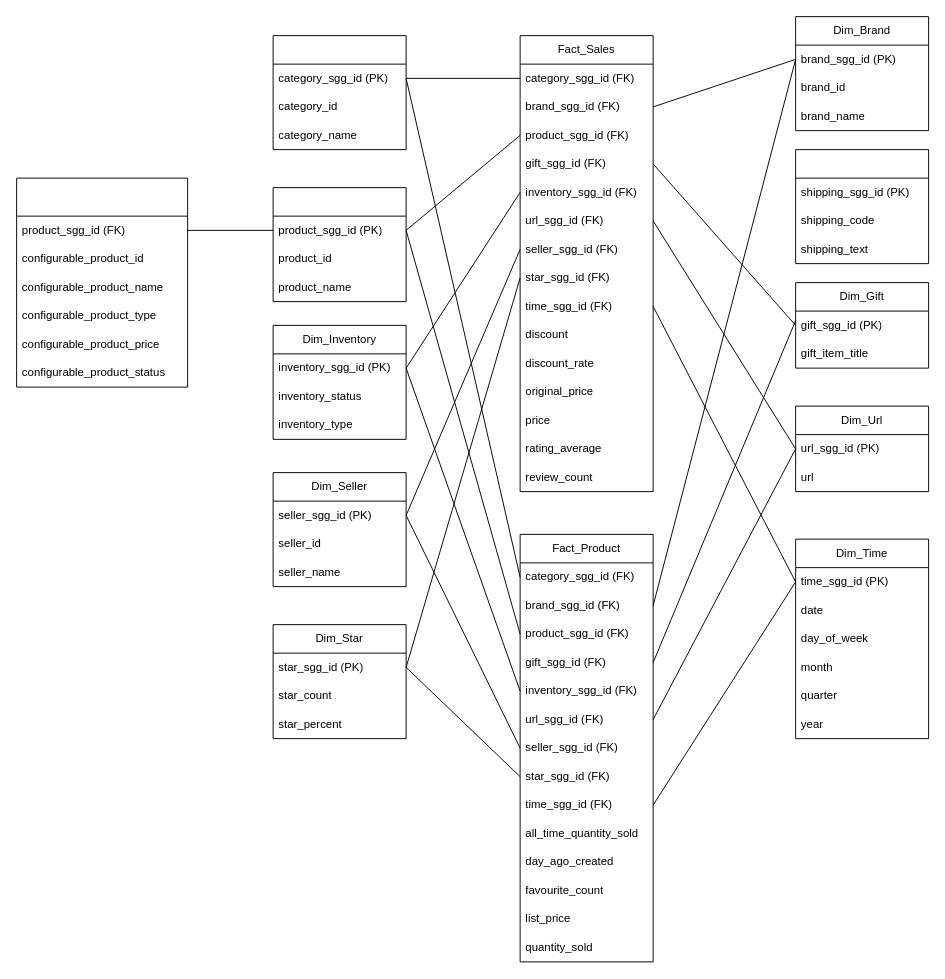
The diagram is 945 pixels wide and 979 high, and some of its shapes have lost their labels. Each missing label, with the box of its shape:
Dim_Category: (272, 35, 406, 150)
Dim_ConfigurableProduct: (16, 177, 188, 387)
Dim_Product: (272, 187, 406, 302)
Dim_Shipping: (795, 149, 929, 264)
